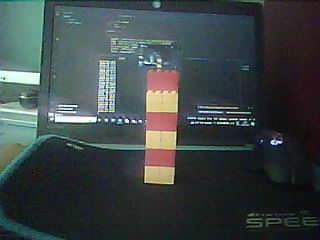lego: (144, 70, 179, 185)
